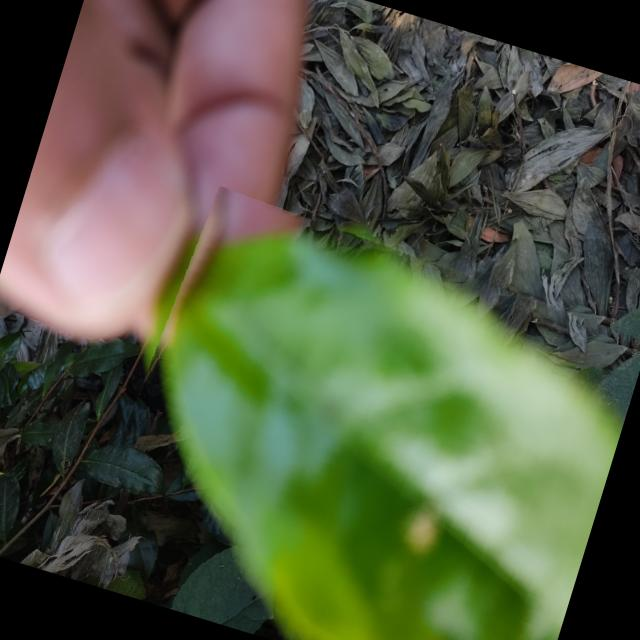Category B 2-4 days: (66, 175, 640, 640)
